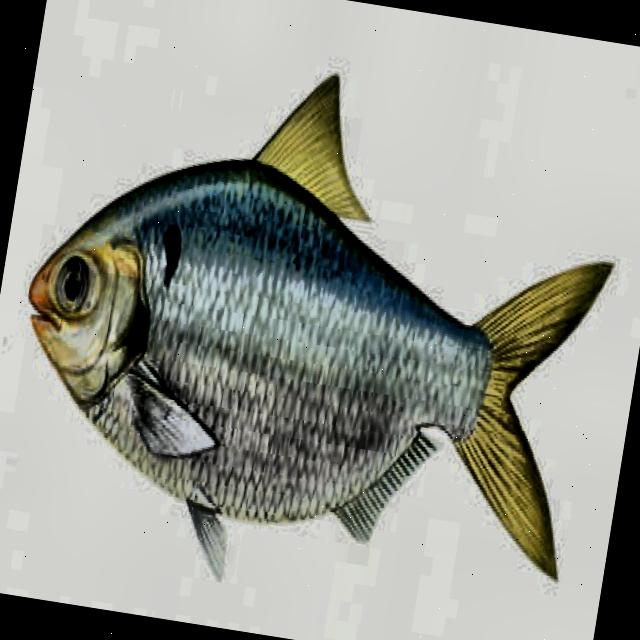fish: (0, 30, 639, 638)
